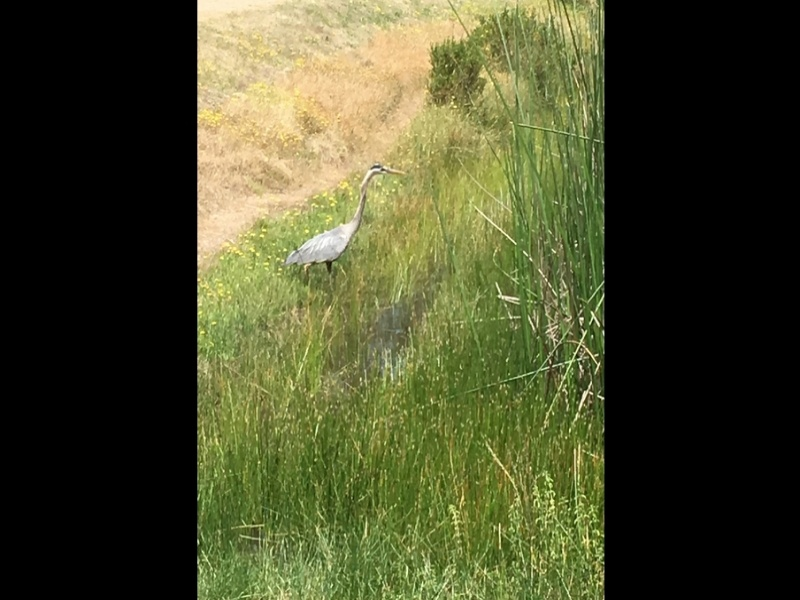heron: (288, 161, 405, 280)
